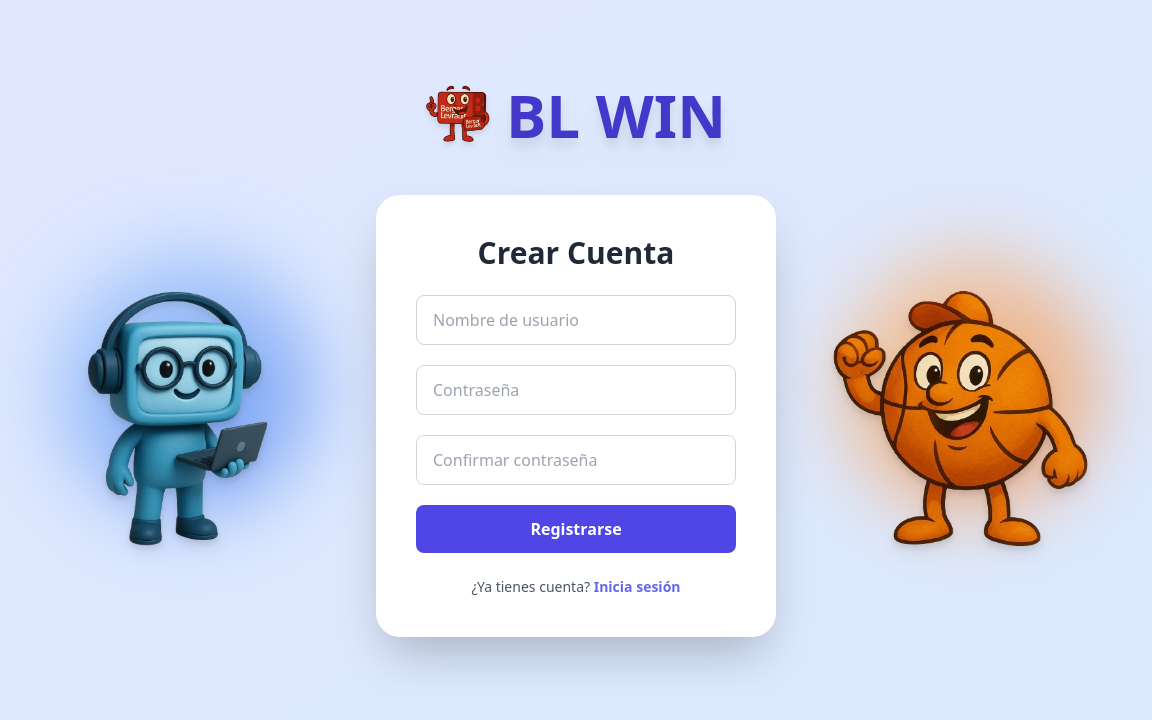
Scenario: Register › muestra error si las contraseñas no coinciden
Type "Carlos" into the field with placeholder "Nombre de usuario". click: (576, 320)
box: x1=416 y1=295 x2=736 y2=345
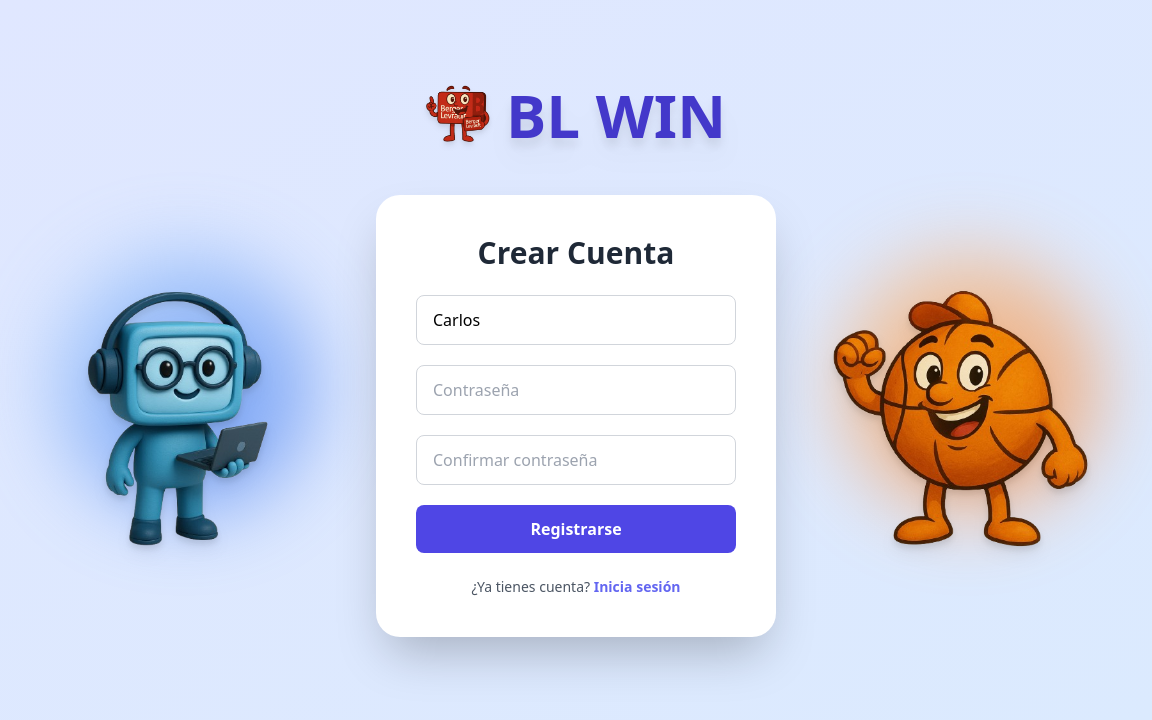
Type "123" into the password field with placeholder "Contraseña". click: (576, 390)
box: x1=416 y1=365 x2=736 y2=415
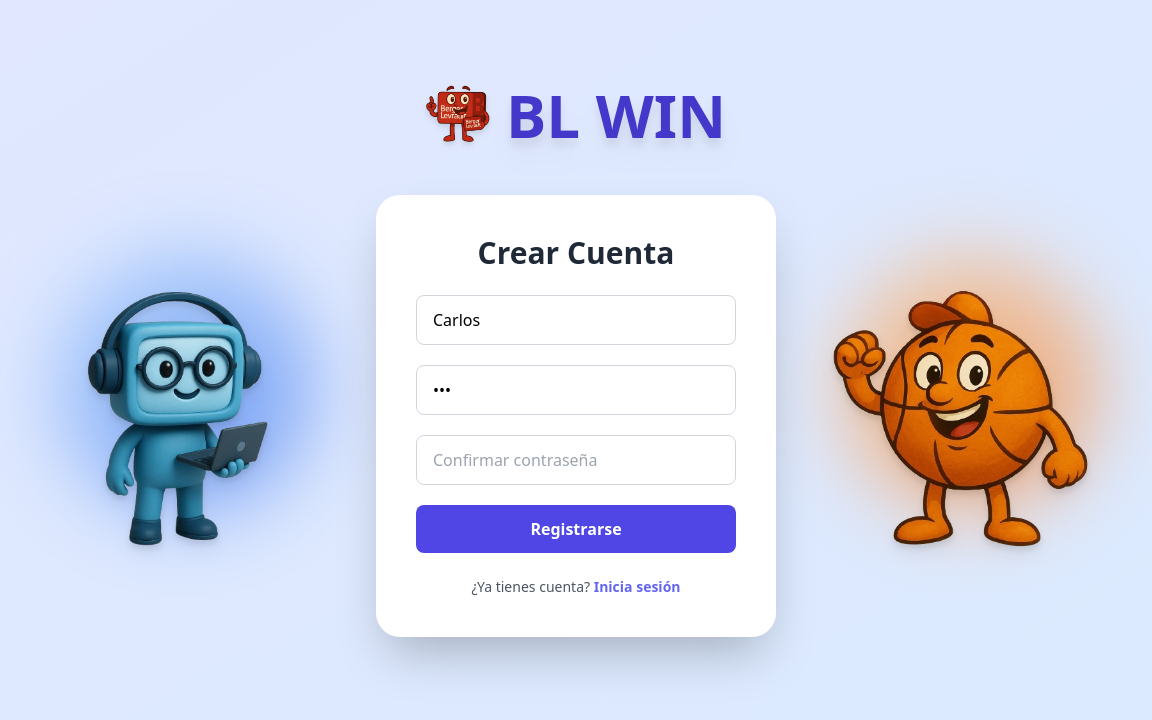
Type "456" into the password field with placeholder "Confirmar contraseña". click: (576, 460)
box: x1=416 y1=435 x2=736 y2=485
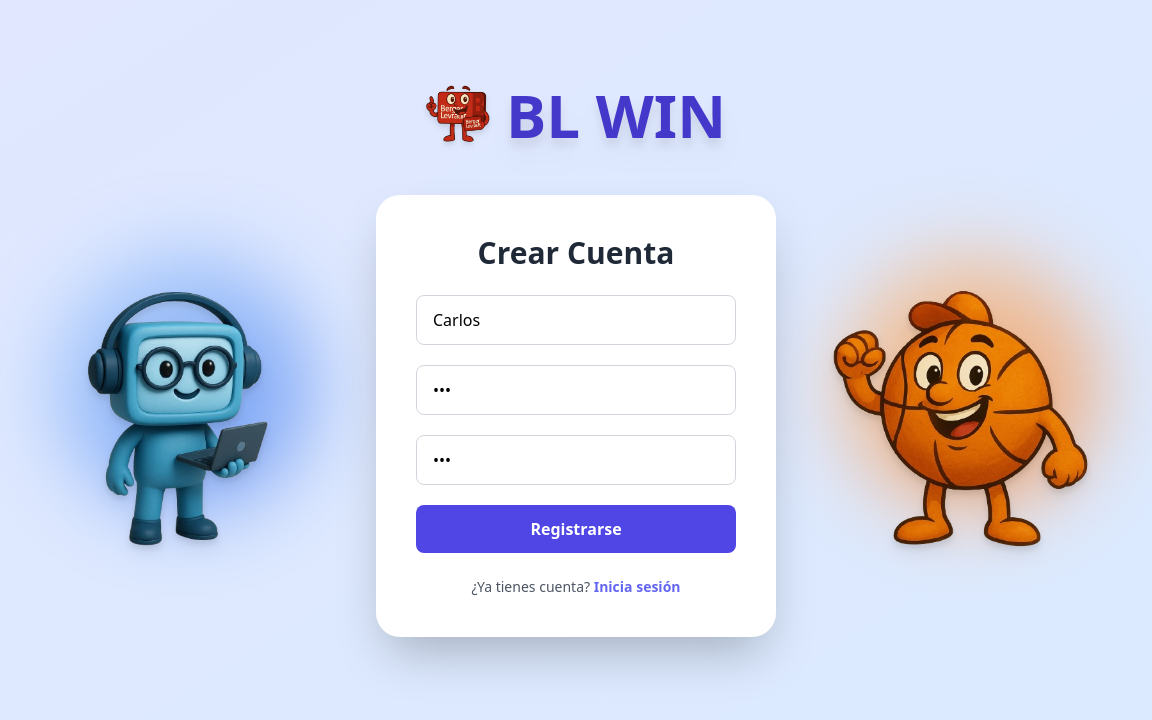
Click the button "Registrarse". click: (576, 529)
box: x1=416 y1=505 x2=736 y2=553
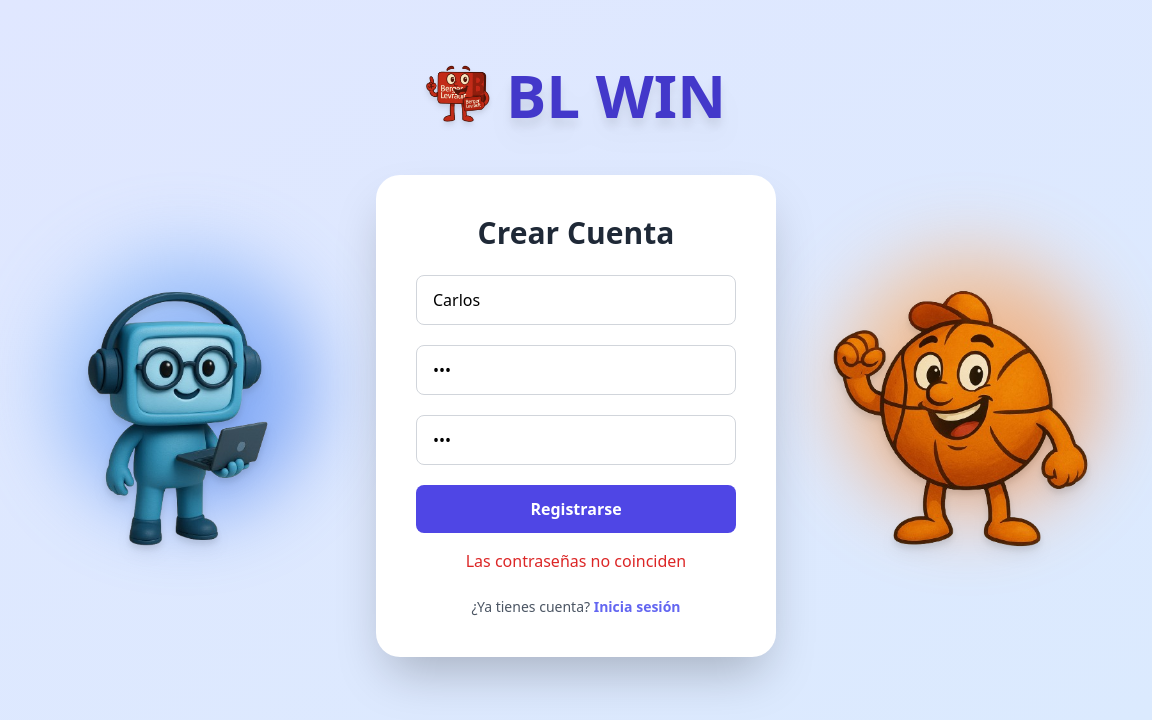
Check: the text "Las contraseñas no coinciden" is shown, box x1=466 y1=550 x2=686 y2=572
